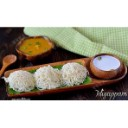idiyappam: (33, 68, 62, 87), (61, 63, 87, 84), (9, 72, 32, 90)
